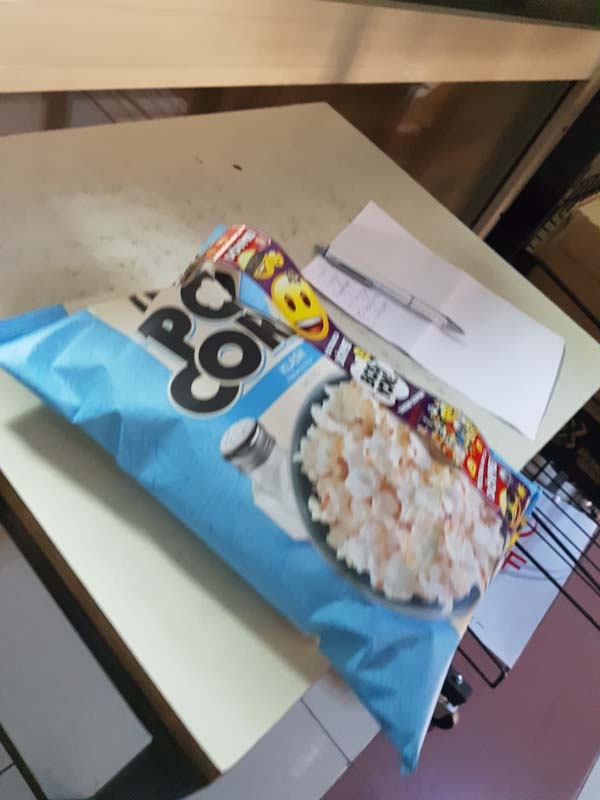popcorn: (2, 238, 544, 780)
